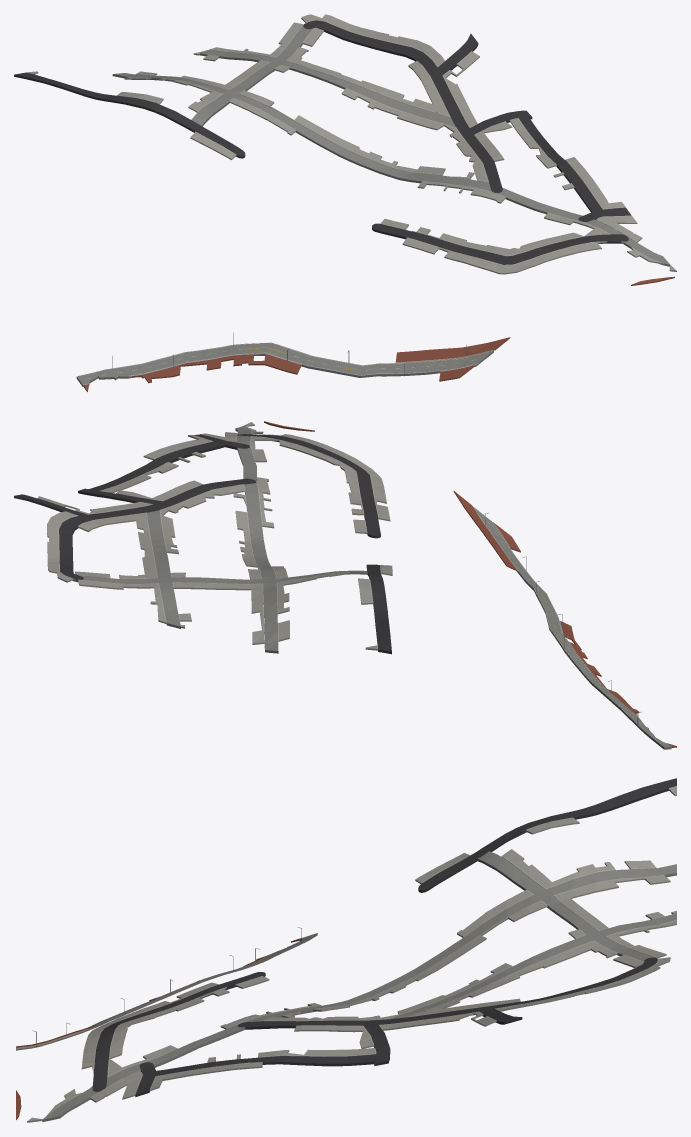
3 views of the same model, one above another, from view 1: azimuth 30°, elevation 25°; view 2: azimuth 150°, elevation 25°; view 3: azimuth 270°, elevation 25° (orthographic). The views are drawn at different scales.
Size of the model in its own units: 293 by 105 by 292.
